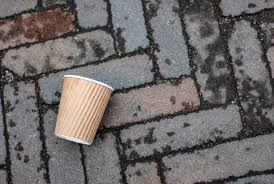cup: (54, 74, 117, 146)
